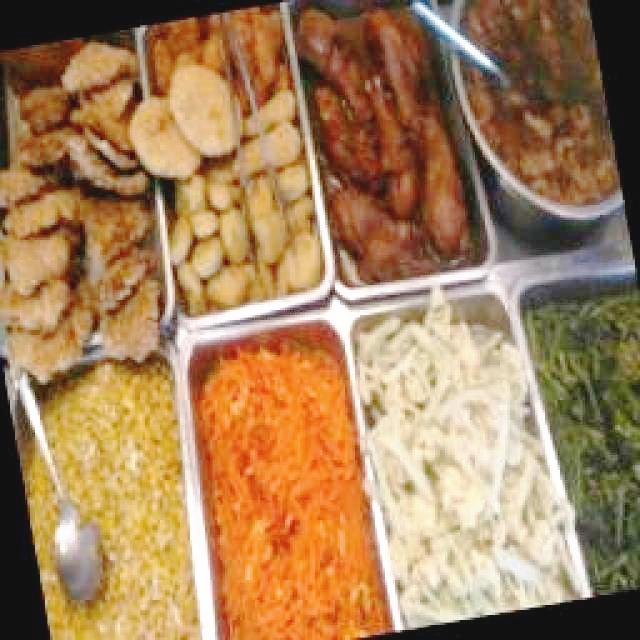Kung Pao Chicken: (191, 329, 393, 637)
water_spinach: (521, 287, 638, 595)
